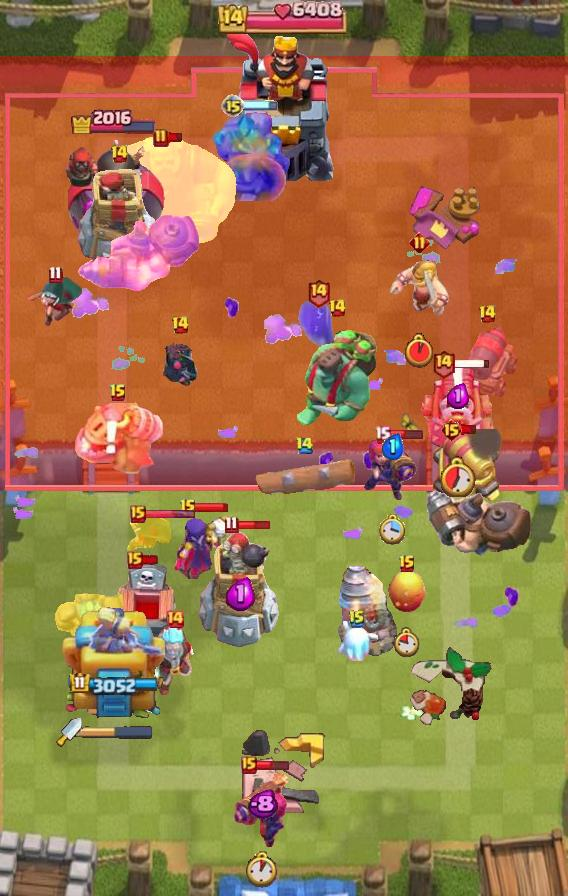axe: (172, 513, 236, 579)
bar: (60, 607, 168, 731)
bat: (336, 621, 378, 661)
battle-ram: (160, 340, 200, 392)
cannoneer-tower: (204, 111, 294, 201)
clock: (217, 0, 351, 34)
electro-spirit: (225, 577, 254, 611), (247, 788, 278, 819), (381, 433, 404, 460), (447, 383, 469, 409)
elixir: (440, 455, 476, 497), (244, 851, 280, 889), (405, 333, 433, 367), (379, 514, 406, 546), (394, 627, 420, 657)
elixir-golem-mid: (112, 563, 182, 649)
emote: (144, 509, 196, 520), (454, 358, 491, 370), (236, 519, 272, 531), (389, 428, 424, 440), (254, 759, 289, 771), (242, 101, 278, 112), (195, 502, 229, 513), (141, 554, 160, 566), (167, 133, 185, 144), (462, 425, 479, 436)
goblin-giant: (386, 258, 452, 320)
golem: (418, 364, 498, 456)
hog: (387, 570, 427, 614)
king-tower: (223, 31, 345, 181)
king-tower-bar: (82, 725, 154, 739)
lava-hound: (294, 322, 380, 428)
lightning: (100, 134, 244, 248)
magic-archer: (337, 565, 397, 657)
mega-minion: (232, 769, 292, 849), (364, 431, 420, 503)
minion: (251, 457, 357, 501)
mortar: (143, 624, 207, 696)
night-witch: (71, 400, 165, 474)
royal-giant-evolution: (455, 323, 519, 401)
royal-recruit: (427, 429, 505, 505)
selected: (70, 106, 158, 134), (69, 672, 158, 696)
spear-goblin: (298, 300, 338, 348)
tesla: (25, 276, 85, 328), (123, 510, 177, 552)
text: (305, 277, 330, 308), (431, 349, 456, 379), (221, 94, 245, 118), (441, 418, 464, 442), (410, 231, 431, 252), (478, 304, 498, 324), (165, 609, 185, 629), (111, 144, 130, 164), (328, 298, 347, 318), (170, 315, 189, 335), (109, 383, 127, 403), (179, 498, 197, 518), (398, 554, 416, 574), (348, 609, 366, 629), (294, 437, 313, 455), (153, 128, 169, 148), (373, 425, 390, 443), (130, 505, 146, 523), (127, 551, 143, 569), (241, 756, 257, 774), (49, 265, 64, 284), (225, 514, 240, 533)
tower-bar: (60, 132, 167, 256)
valkyrie-evolution: (51, 592, 123, 662)
wizard: (77, 214, 201, 292), (423, 488, 535, 558)
zappy: (198, 530, 282, 652), (78, 169, 160, 275)
